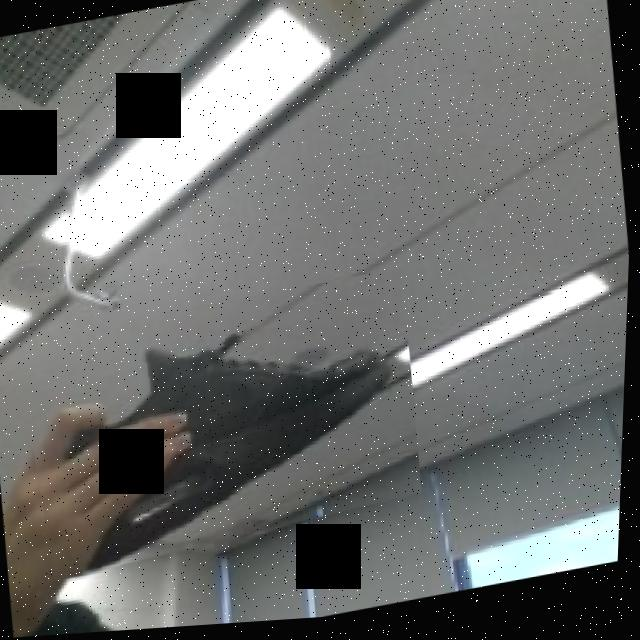shoe: (11, 272, 434, 587)
